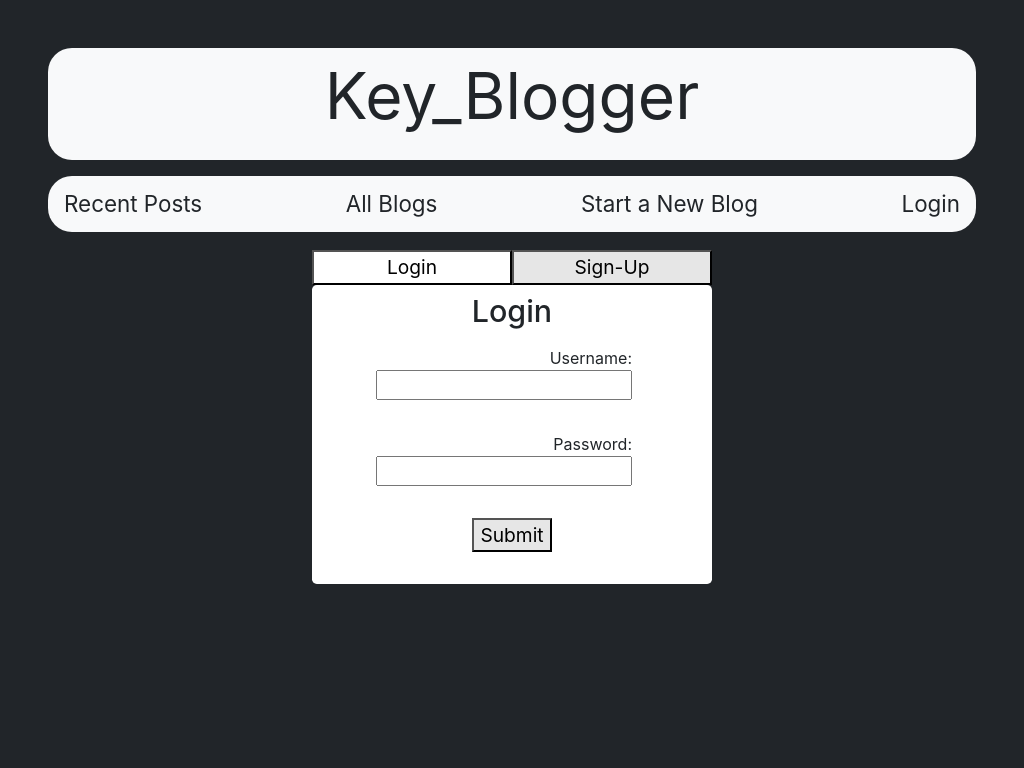
Test: Make sure Login loads › doesn't log in user when username and password are incorrect
Type "test" into the field with id "username".
click(504, 385); type("test")  # box 376,370 -> 632,400
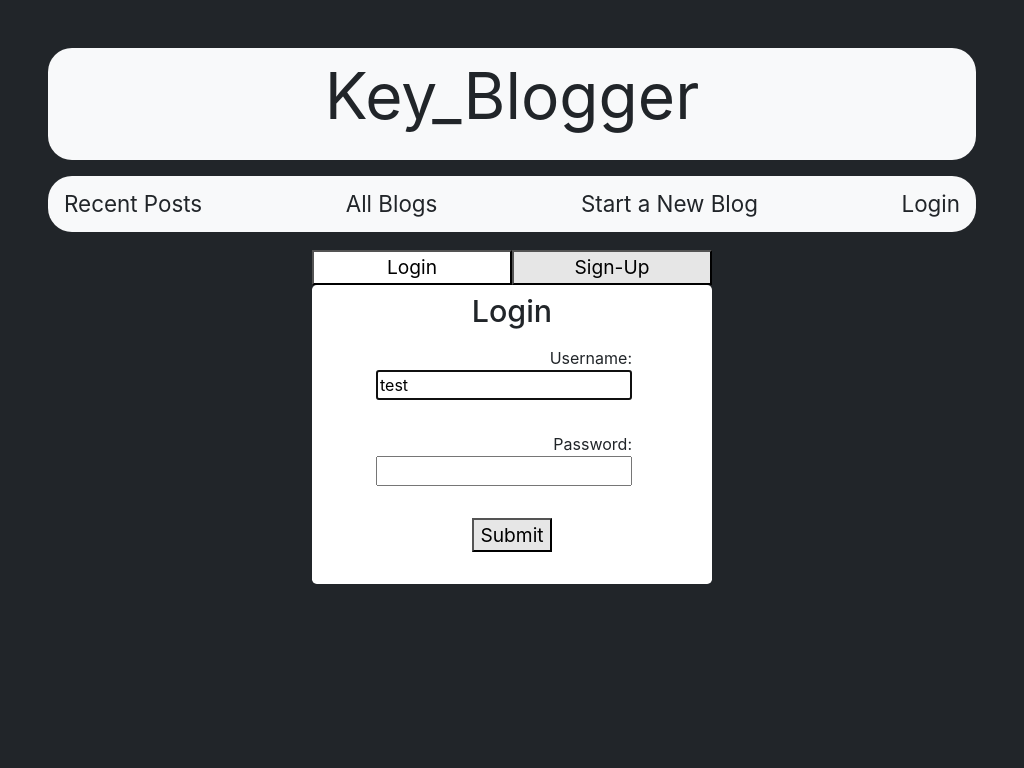
Type "wrong" into the password field labelled "Password:".
click(504, 471); type("wrong")  # box 376,456 -> 632,486
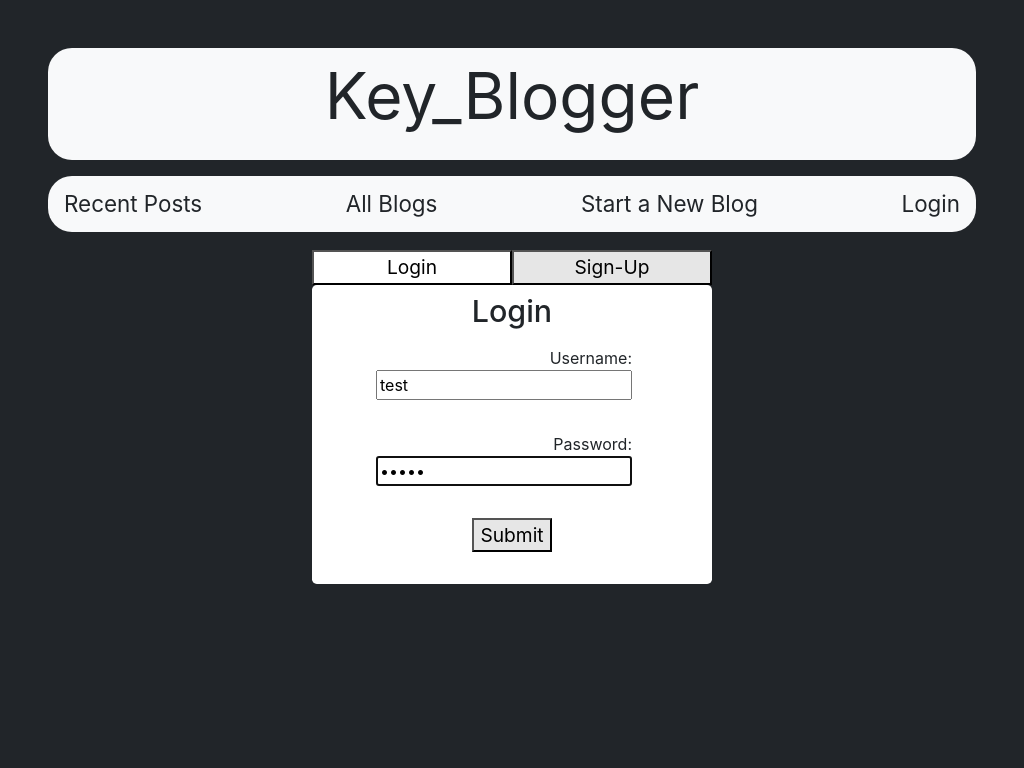
Click the button with class "justify-content-center".
click(512, 536)  # box 472,518 -> 552,553
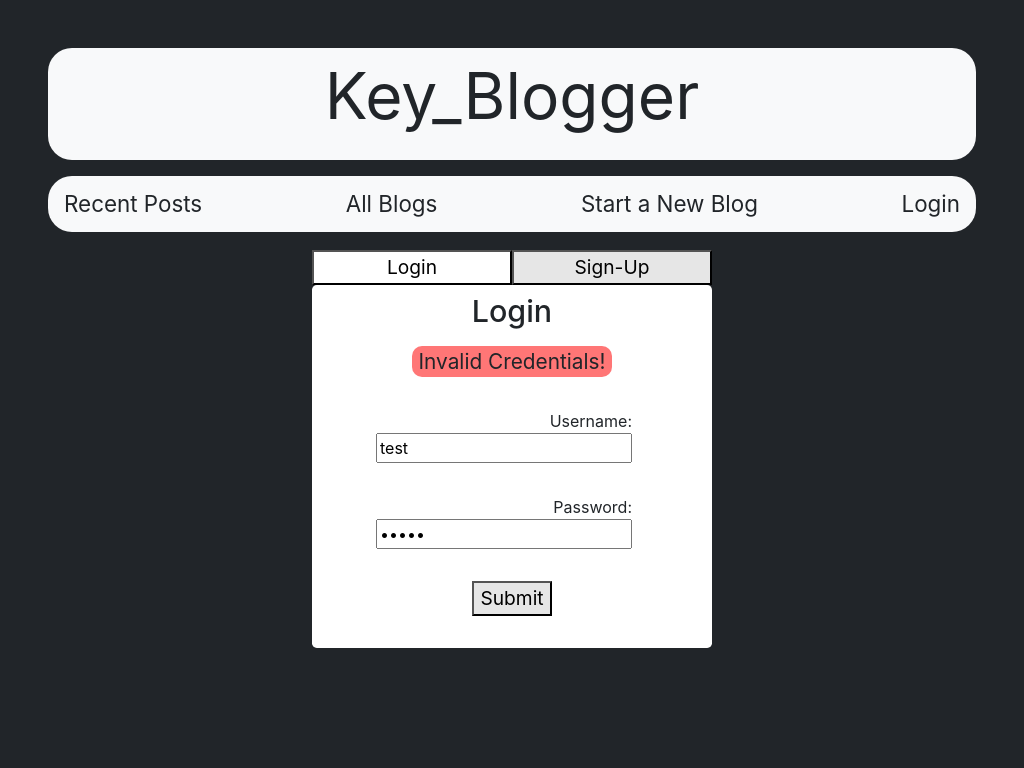
Now the text "Invalid Credentials!" is shown, box 412,346 -> 612,377
